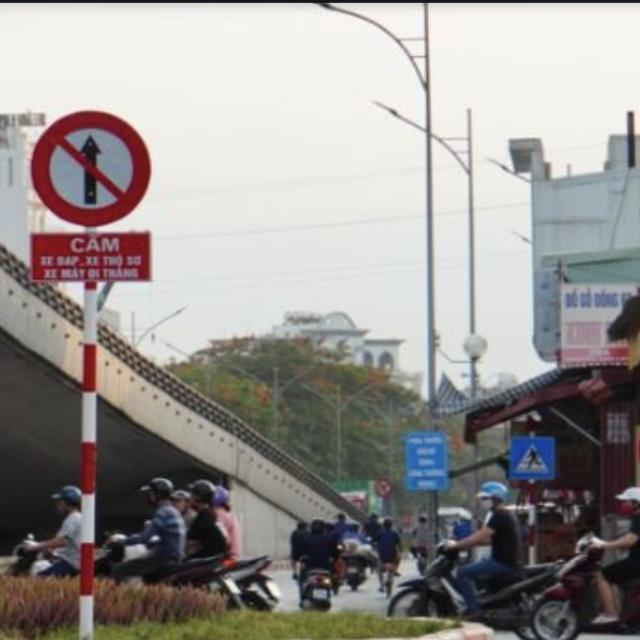136-cam-di-thang: (27, 112, 151, 226)
